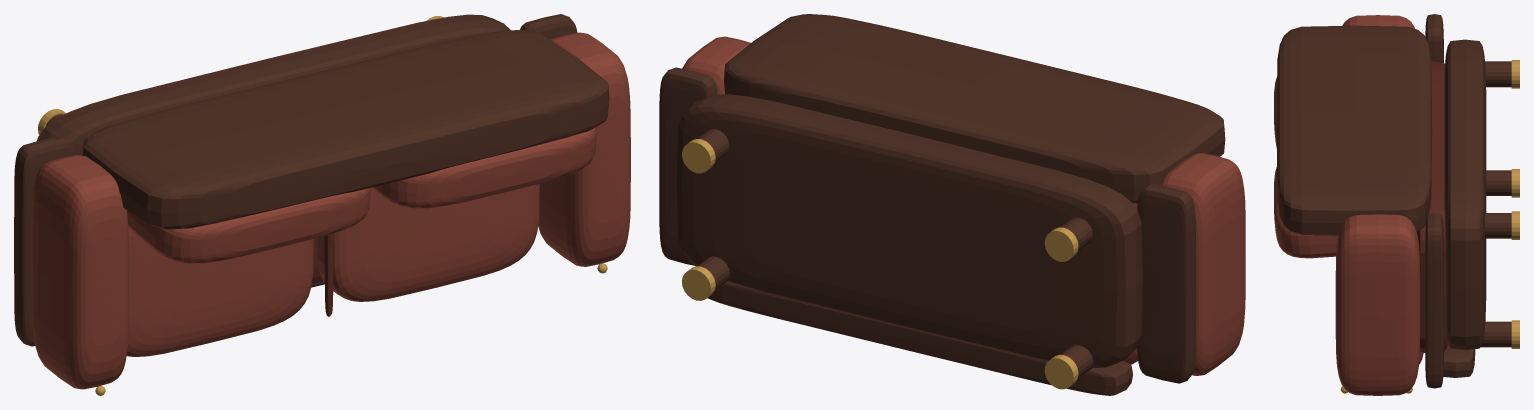
File: vip_left_couch.glb
3 renders of one model, left to right at view 1: azimuth 30°, elevation 25°; view 2: azimuth 150°, elevation 25°; view 3: azimuth 270°, elevation 25°, orthographic. The views are drawn at different scales.
Visible parts, largest first — view 1: back_frame, armrest_L, seat_cushion_2, seat_cushion_1, armrest_R, base_plinth, back_cushion_1, back_cushion_2, arm_trim_L, arm_trim_R, seat_center_seam; view 2: base_plinth, back_frame, armrest_L, arm_trim_L, front_apron, arm_trim_R, armrest_R, brass_foot_1, brass_foot_4, brass_foot_2, brass_foot_3, leg_1 (+3 smaller); view 3: back_frame, armrest_R, base_plinth, arm_trim_R, seat_support, back_cushion_2, front_apron, arm_trim_L, leg_2, armrest_L, leg_3, leg_4 (+5 smaller).
Part boxes in pixels (<box>): back_frame: <box>82,30,609,229</box>; armrest_L: <box>31,155,128,389</box>; seat_cushion_2: <box>317,184,539,301</box>; seat_cushion_1: <box>126,227,313,356</box>; armrest_R: <box>538,32,630,266</box>; base_plinth: <box>37,14,510,155</box>; back_cushion_1: <box>127,188,370,263</box>; back_cushion_2: <box>372,127,596,208</box>; arm_trim_L: <box>14,136,75,346</box>; arm_trim_R: <box>520,14,577,39</box>; seat_center_seam: <box>324,233,333,316</box>; base_plinth: <box>677,94,1142,367</box>; back_frame: <box>724,14,1225,203</box>; armrest_L: <box>1161,153,1245,375</box>; arm_trim_L: <box>1137,184,1196,383</box>; front_apron: <box>707,281,1132,395</box>; arm_trim_R: <box>659,67,717,265</box>; armrest_R: <box>682,36,750,94</box>; brass_foot_1: <box>1044,354,1078,389</box>; brass_foot_4: <box>682,139,715,173</box>; brass_foot_2: <box>682,266,715,300</box>; brass_foot_3: <box>1044,227,1078,261</box>; leg_1: <box>1060,345,1093,378</box>; back_frame: <box>1276,25,1432,235</box>; armrest_R: <box>1335,214,1420,395</box>; base_plinth: <box>1444,39,1486,349</box>; arm_trim_R: <box>1425,213,1443,388</box>; seat_support: <box>1416,61,1447,352</box>; back_cushion_2: <box>1274,167,1338,258</box>; front_apron: <box>1443,344,1475,377</box>; arm_trim_L: <box>1425,14,1443,62</box>; leg_2: <box>1481,321,1511,347</box>; armrest_L: <box>1342,15,1414,28</box>; leg_3: <box>1485,61,1511,87</box>; leg_4: <box>1485,213,1511,238</box>.
Bounding box in the file's own units: 2.24 × 0.879 × 1.04.
